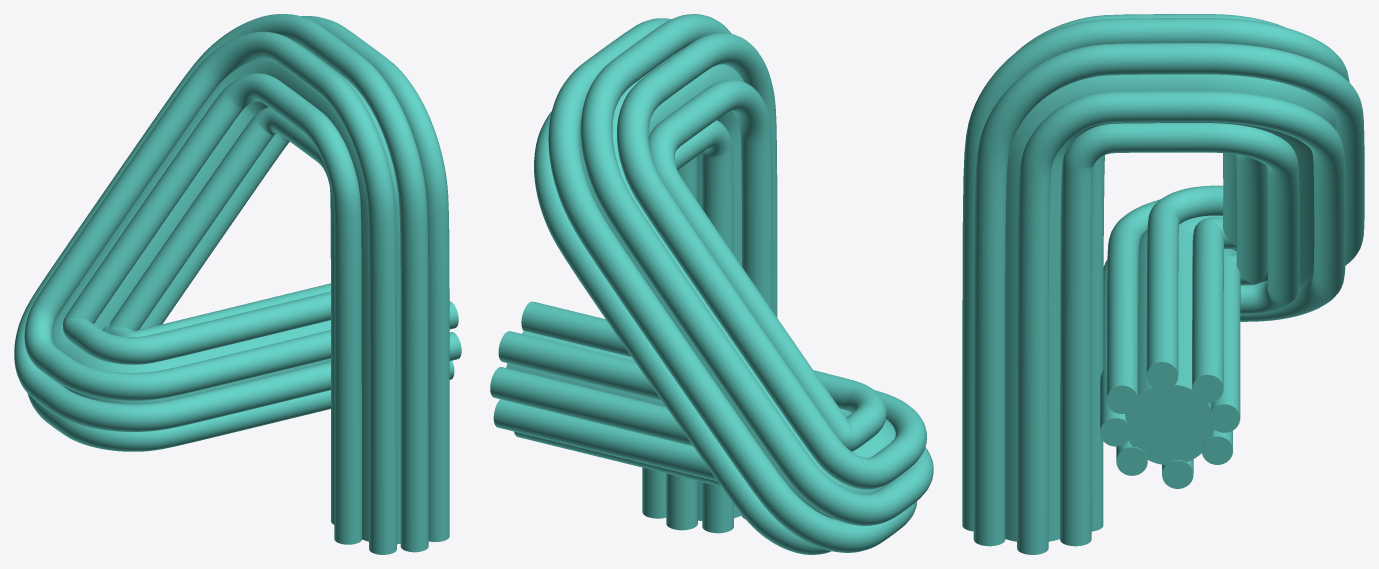
3 views of the same model, side by side, from view 1: azimuth 30°, elevation 25°; view 2: azimuth 150°, elevation 25°; view 3: azimuth 270°, elevation 25° (orthographic). The views are drawn at different scales.
Visible parts, largest first — view 1: Four; view 2: Four; view 3: Four.
Boxes of the visible parts, box(x1,y1,x2,y2) form: Four: box(14, 14, 461, 554); Four: box(490, 14, 933, 554); Four: box(962, 14, 1364, 554).
Bounding box in the file's own units: 1.86 × 2.17 × 1.57.
